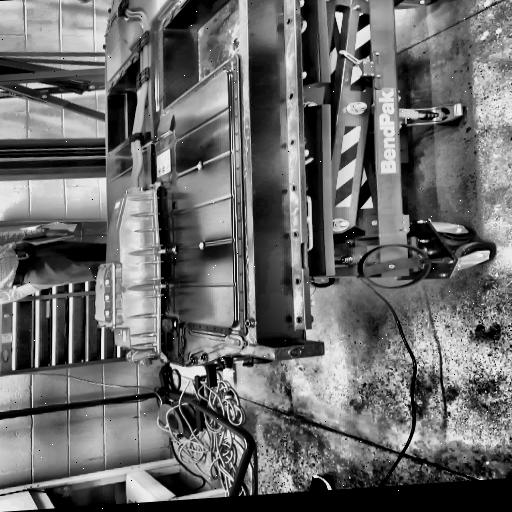b_casing: (103, 0, 312, 369)
bms_unit: (94, 186, 168, 370)
high_volt_cable: (113, 0, 153, 190)
